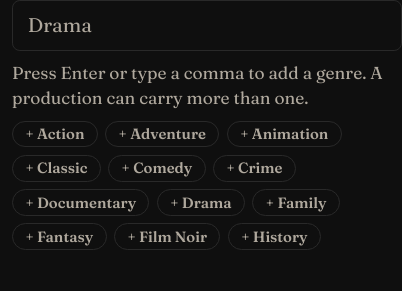
Test: GenreInput › commits on blur, so a half-typed genre is not lost to a Save click
In the field: [207, 26] box [28,11,386,41], type "Thriller"
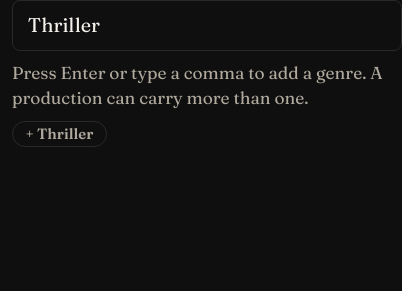
Leave the field, box [28,11,386,41]
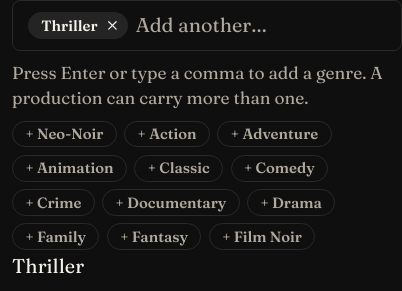
Expected: the element showing "Thriller" is shown, [28,12,128,39]
